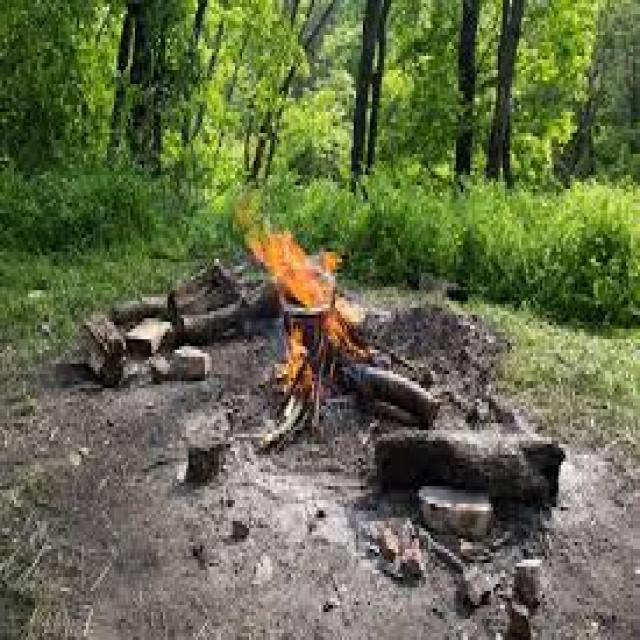fire: (244, 227, 336, 307), (276, 323, 314, 386), (325, 307, 368, 358)
